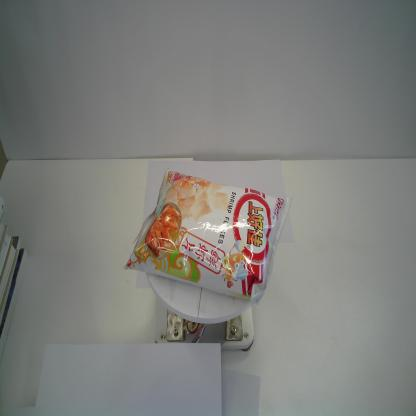Puffed Food: (119, 166, 293, 308)
